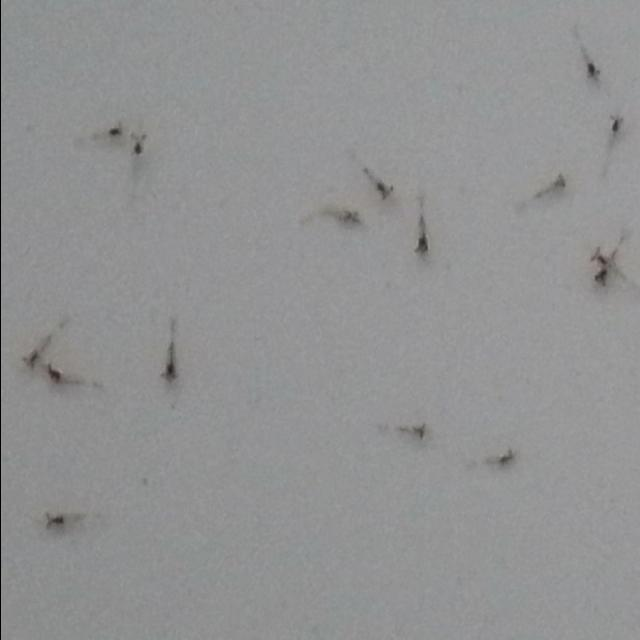shrimp-seed: (18, 340, 46, 373), (157, 344, 179, 386), (410, 220, 432, 260), (42, 364, 72, 392), (540, 172, 570, 199), (336, 206, 363, 233), (491, 447, 518, 471), (126, 130, 148, 159), (402, 422, 430, 444), (580, 58, 602, 86), (39, 510, 65, 532), (373, 178, 395, 204), (589, 244, 611, 270), (100, 120, 124, 142), (605, 110, 625, 136), (591, 264, 613, 286)
